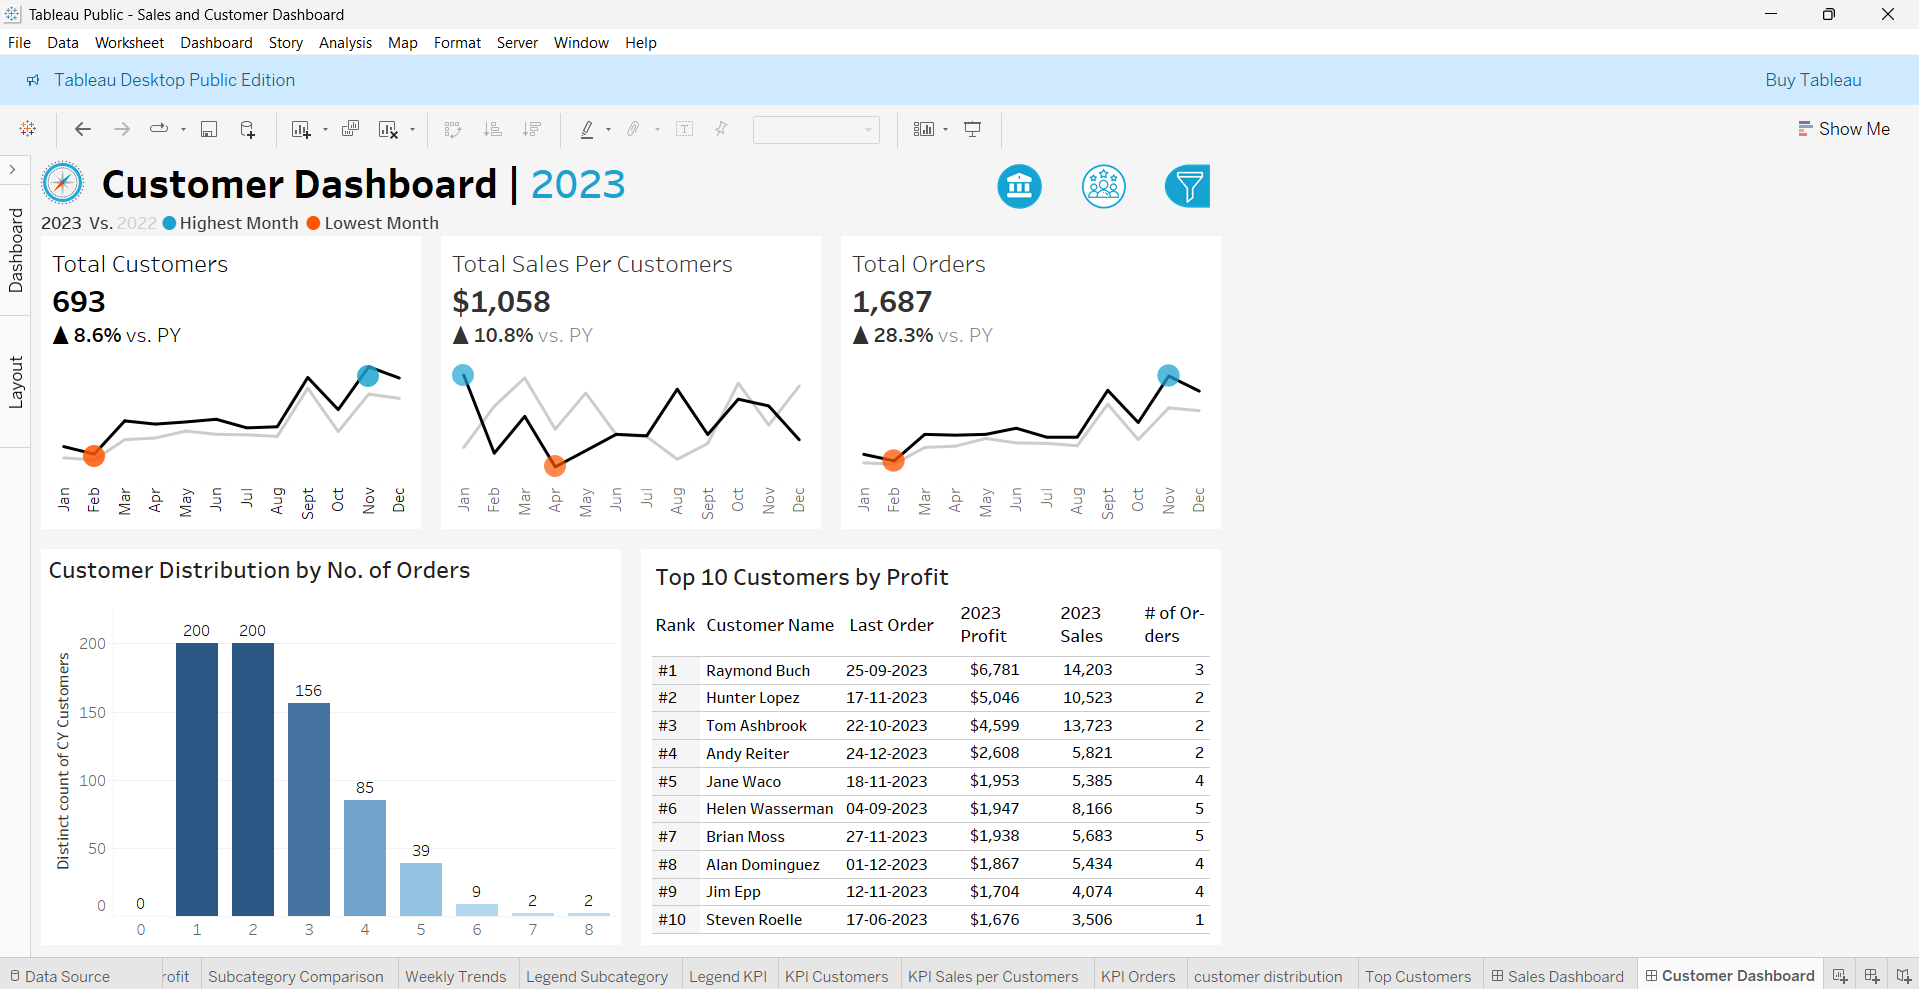

What the dashboard file says about the page in this screenshot:
{"tool":"tableau","page":{"name":"Customer Dashboard","canvas":[1200,800],"ordinal":0},"visuals":[{"type":"image","param":"Image/Icon - Logo.png","box":[0,0,63,54]},{"type":"text","box":[63,0,1137,54]},{"type":"dashboard-object","box":[946,4,84,54]},{"type":"dashboard-object","box":[1030,4,84,54]},{"type":"dashboard-object","box":[1114,4,83,54]},{"type":"text","box":[954,11,235,154]},{"type":"worksheet","title":"Legend KPI","mark":"Automatic","box":[0,54,1200,27]},{"type":"worksheet","title":"KPI Customers","mark":"Automatic","rows":["Calculation_418834770939469833"],"cols":["Order Date"],"box":[0,81,400,303]},{"type":"worksheet","title":"KPI Sales per Customers","mark":"Automatic","rows":["Calculation_418834770944274446"],"cols":["Order Date"],"box":[400,81,400,303]},{"type":"worksheet","title":"KPI Orders","mark":"Automatic","rows":["Calculation_507499388803100674"],"cols":["Order Date"],"box":[800,81,400,303]},{"type":"parameter","param":"[Parameters].[Parameter 1]","box":[954,165,235,56]},{"type":"blank","box":[954,221,235,59]},{"type":"text","box":[954,280,235,32]},{"type":"filter","title":"KPI Customers","param":"[federated.1e0hpus14uozzm112xsbg1gndge3].[none:Category:nk]","box":[954,312,235,61]},{"type":"filter","title":"KPI Customers","param":"[federated.1e0hpus14uozzm112xsbg1gndge3].[none:Sub-Category:nk]","box":[954,373,235,61]},{"type":"text","box":[10,394,580,40]},{"type":"text","box":[617,401,566,40]},{"type":"worksheet","title":"customer distribution","mark":"Bar","rows":["Calculation_418834770922831872"],"cols":["No. of orders per customer (bin)"],"box":[10,434,580,356]},{"type":"blank","box":[954,434,235,61]},{"type":"text","box":[617,441,51,56]},{"type":"text","box":[668,441,143,56]},{"type":"text","box":[811,441,111,56]},{"type":"text","box":[922,441,100,56]},{"type":"text","box":[1022,441,84,56]},{"type":"text","box":[1106,441,77,56]},{"type":"text","box":[954,495,235,32]},{"type":"worksheet","title":"Top Customers","mark":"Automatic","rows":["Calculation_183803166702620683","Customer Name","Order Date"],"box":[617,497,566,286]},{"type":"filter","title":"KPI Customers","param":"[federated.1e0hpus14uozzm112xsbg1gndge3].[none:Region:nk]","box":[954,527,235,61]},{"type":"filter","title":"KPI Customers","param":"[federated.1e0hpus14uozzm112xsbg1gndge3].[none:State:nk]","box":[954,588,235,61]},{"type":"filter","title":"KPI Customers","param":"[federated.1e0hpus14uozzm112xsbg1gndge3].[none:City:nk]","box":[954,649,235,90]}]}

Visuals, with their boxes on the page's 1200x800 design canvas (x1, y1, x2, y2). These are canvas units, not pixel positions in the 1919x989 screenshot, which may show the page scaled, cropped or inside an application window:
image: region(0, 0, 63, 54)
text: region(63, 0, 1200, 54)
dashboard-object: region(946, 4, 1030, 58)
dashboard-object: region(1030, 4, 1114, 58)
dashboard-object: region(1114, 4, 1197, 58)
text: region(954, 11, 1189, 165)
"Legend KPI" worksheet: region(0, 54, 1200, 81)
"KPI Customers" worksheet: region(0, 81, 400, 384)
"KPI Sales per Customers" worksheet: region(400, 81, 800, 384)
"KPI Orders" worksheet: region(800, 81, 1200, 384)
parameter: region(954, 165, 1189, 221)
blank: region(954, 221, 1189, 280)
text: region(954, 280, 1189, 312)
"KPI Customers" filter: region(954, 312, 1189, 373)
"KPI Customers" filter: region(954, 373, 1189, 434)
text: region(10, 394, 590, 434)
text: region(617, 401, 1183, 441)
"customer distribution" worksheet (Bar marks): region(10, 434, 590, 790)
blank: region(954, 434, 1189, 495)
text: region(617, 441, 668, 497)
text: region(668, 441, 811, 497)
text: region(811, 441, 922, 497)
text: region(922, 441, 1022, 497)
text: region(1022, 441, 1106, 497)
text: region(1106, 441, 1183, 497)
text: region(954, 495, 1189, 527)
"Top Customers" worksheet: region(617, 497, 1183, 783)
"KPI Customers" filter: region(954, 527, 1189, 588)
"KPI Customers" filter: region(954, 588, 1189, 649)
"KPI Customers" filter: region(954, 649, 1189, 739)
